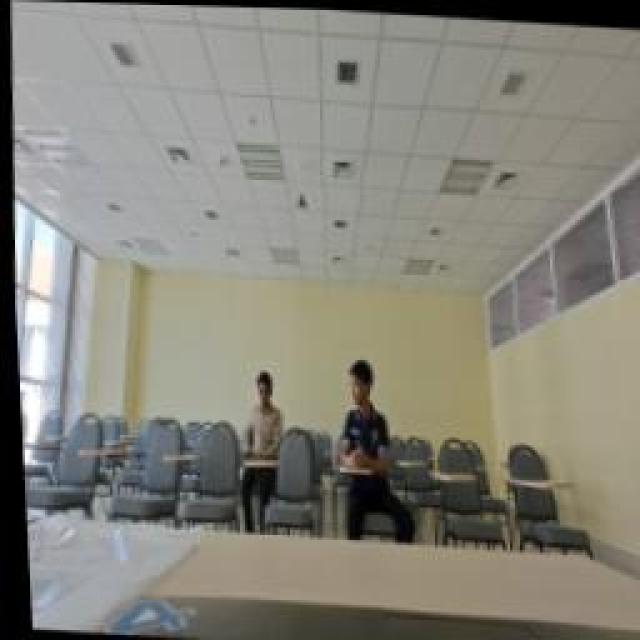study: (328, 350, 412, 548), (230, 368, 288, 530)
